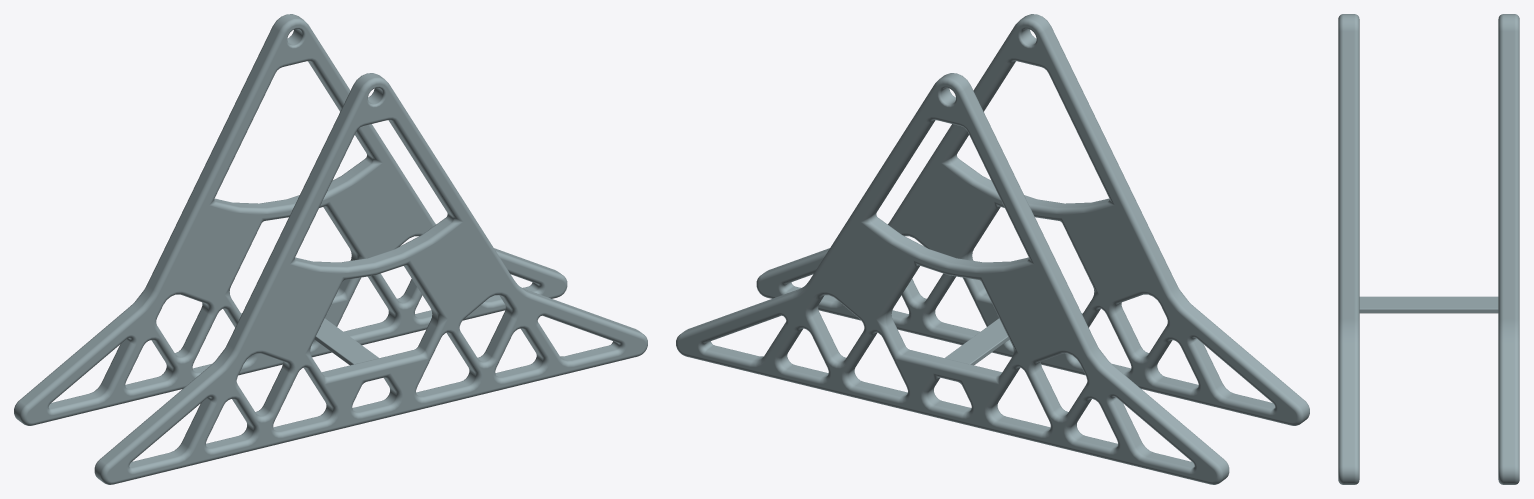
File: Ferris01.FBX
The picture shows the model from 3 angles, left to right: view 1: azimuth 30°, elevation 25°; view 2: azimuth 150°, elevation 25°; view 3: azimuth 270°, elevation 25°; orthographic projection.
Visible parts, largest first — view 1: Ferris01; view 2: Ferris01; view 3: Ferris01.
Boxes of the visible parts, box(x1,y1,x2,y2) form: Ferris01: box(14, 14, 647, 484); Ferris01: box(676, 14, 1309, 484); Ferris01: box(1338, 14, 1519, 484).
Size of the model in its own units: 1.22 by 0.7279 by 0.351.
